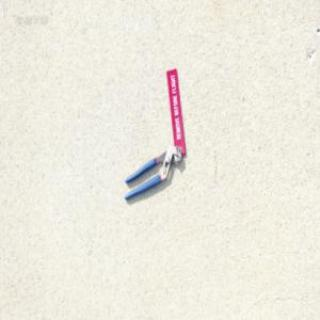LuggageTagtrack_idkeyframe: (166, 67, 186, 154)
Pliertrack_idkeyframe: (123, 143, 181, 201)
